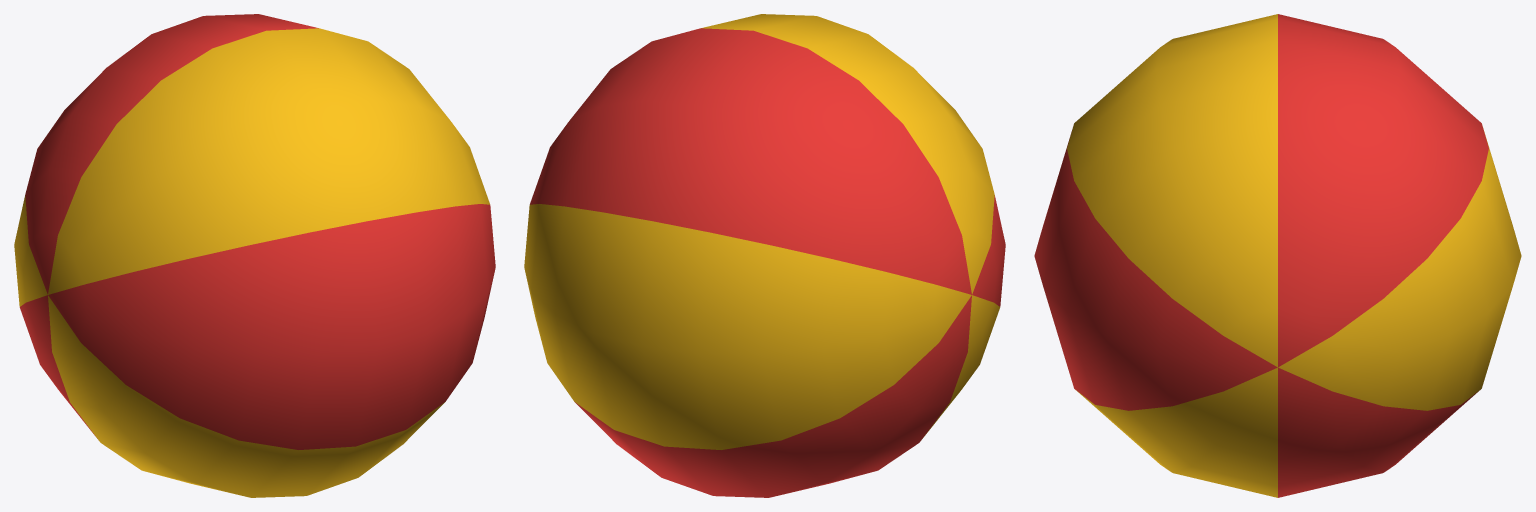
File: Ball.fbx
3 renders of one model, left to right at view 1: azimuth 30°, elevation 25°; view 2: azimuth 150°, elevation 25°; view 3: azimuth 270°, elevation 25°, orthographic.
Visible parts, largest first — view 1: Ball; view 2: Ball; view 3: Ball.
Boxes of the visible parts, x1=… form: Ball: x1=14, y1=14, x2=495, y2=497; Ball: x1=524, y1=14, x2=1005, y2=497; Ball: x1=1034, y1=14, x2=1521, y2=497.
Bounding box in the file's own units: 31.43 × 32.27 × 32.32.
